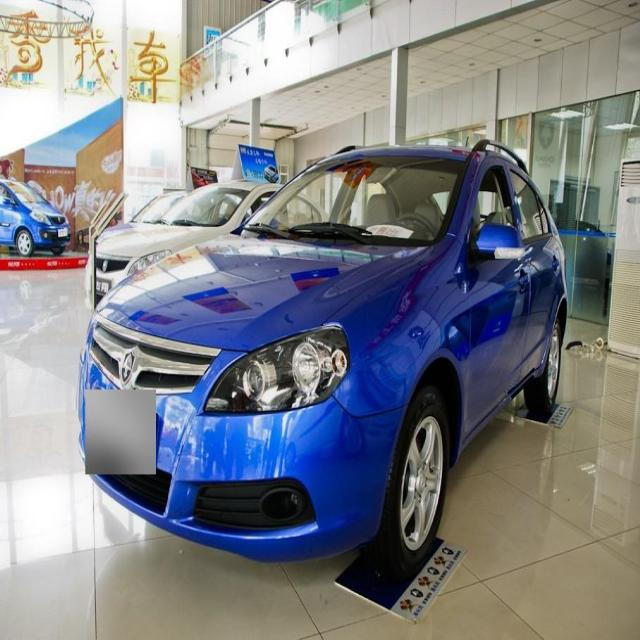front_bumper: (76, 351, 399, 562)
front_glass: (242, 160, 466, 250)
front_left_side_door: (457, 158, 531, 447)
front_left_side_light: (198, 322, 350, 420)
front_left_side_mirror: (471, 222, 526, 265)
wheel: (387, 392, 453, 564), (538, 311, 564, 410)
